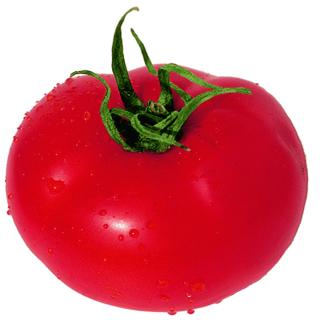Tomat: (5, 8, 310, 316)
